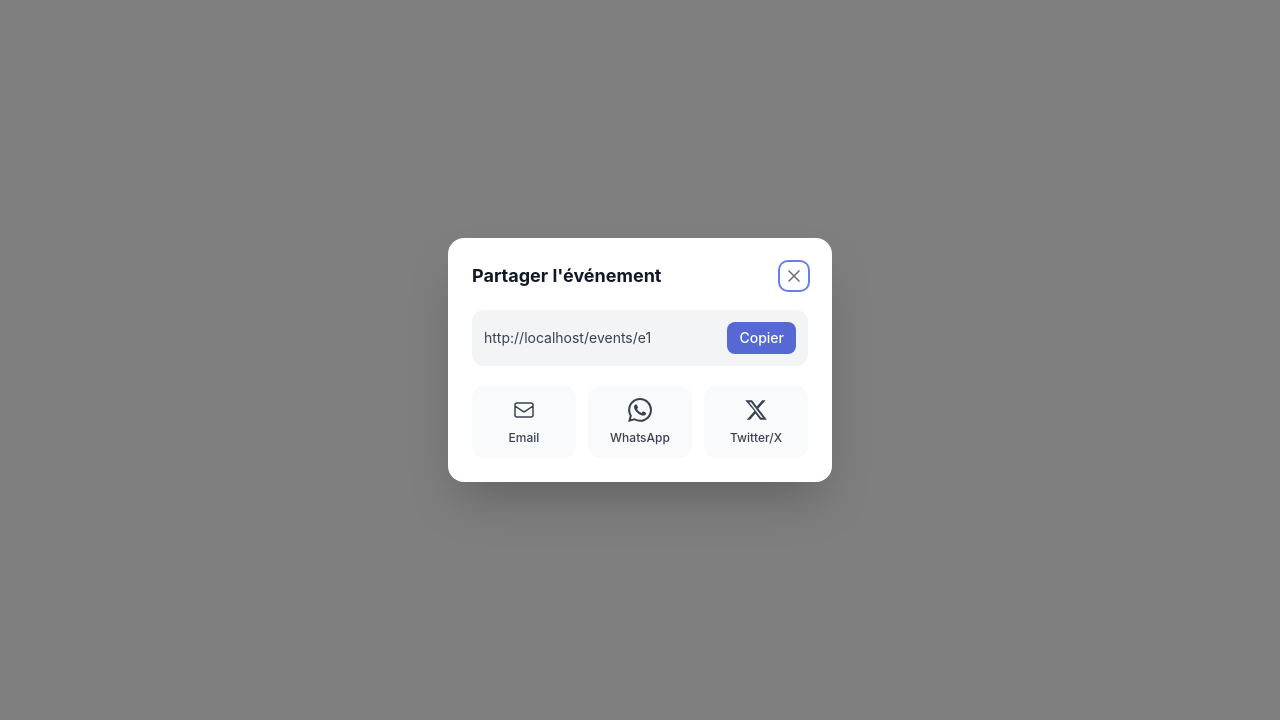
Scenario: ShareModal › copies the link to the clipboard and shows confirmation feedback
Click the button with aria-label "Copier le lien" at (762, 338), box [728,322,796,354]
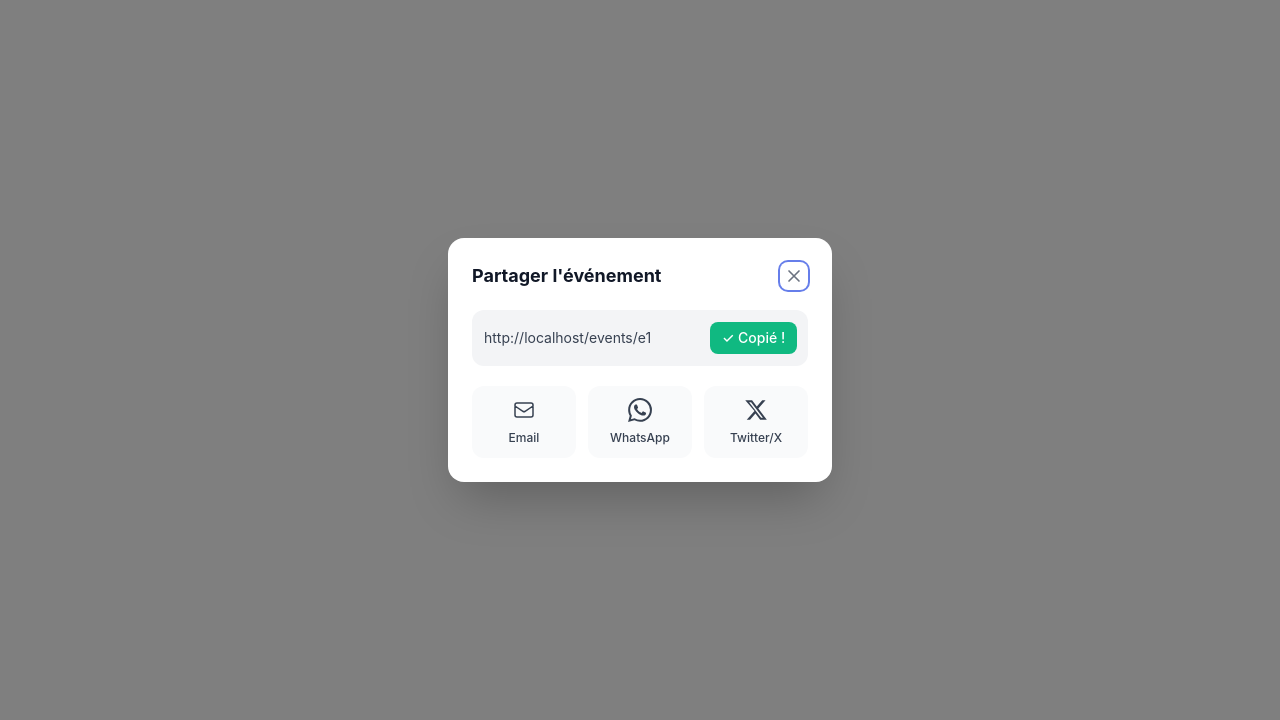
Now the button "✓ Copié !" is shown, box [710,322,797,354]
